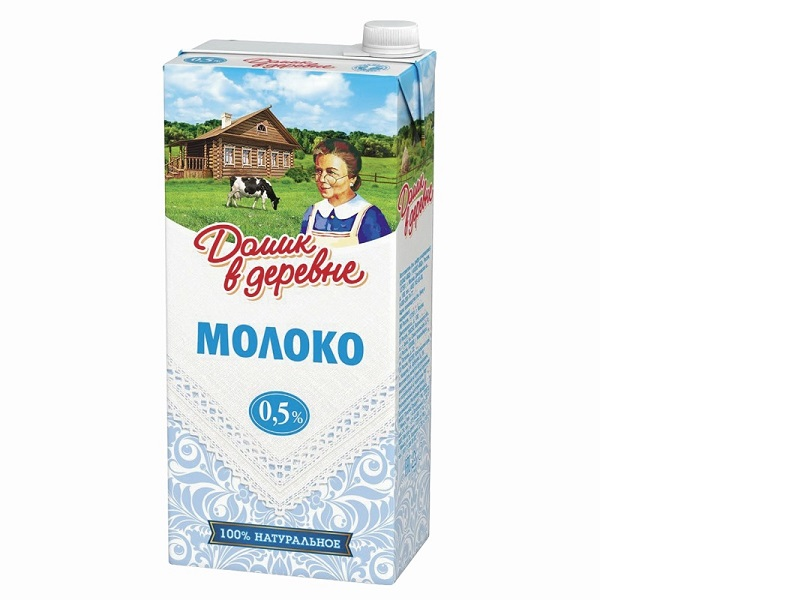milk: (107, 13, 509, 593)
